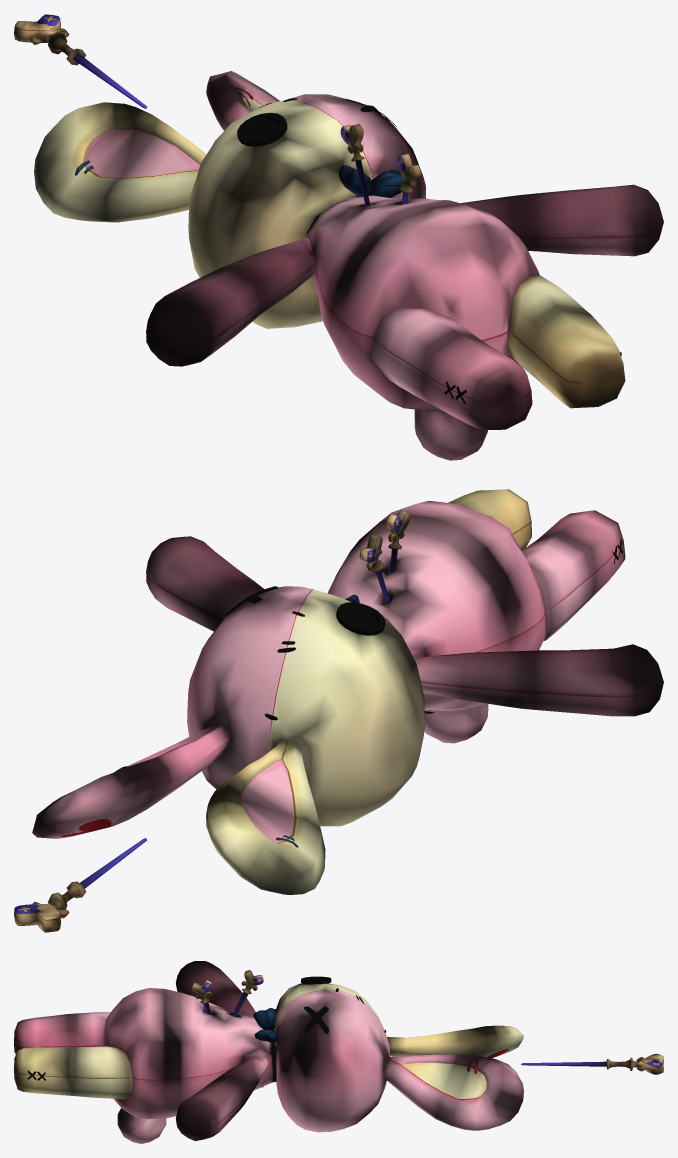
The model's file is CH_Olivia_WP_Base.glb.
The picture shows the model from 3 angles, top to bottom: view 1: azimuth 30°, elevation 25°; view 2: azimuth 150°, elevation 25°; view 3: azimuth 270°, elevation 25°; orthographic projection. The views are drawn at different scales.
Visible parts, largest first — view 1: CH_Olivia_WP_Base; view 2: CH_Olivia_WP_Base; view 3: CH_Olivia_WP_Base.
Boxes of the visible parts, x1,y1,x2,y2 form: CH_Olivia_WP_Base: (14,14,663,460); CH_Olivia_WP_Base: (14,489,663,932); CH_Olivia_WP_Base: (14,961,663,1143).
Bounding box in the file's own units: 0.7744 × 0.3935 × 1.38.
Materials: 1 (1 with a texture image).
